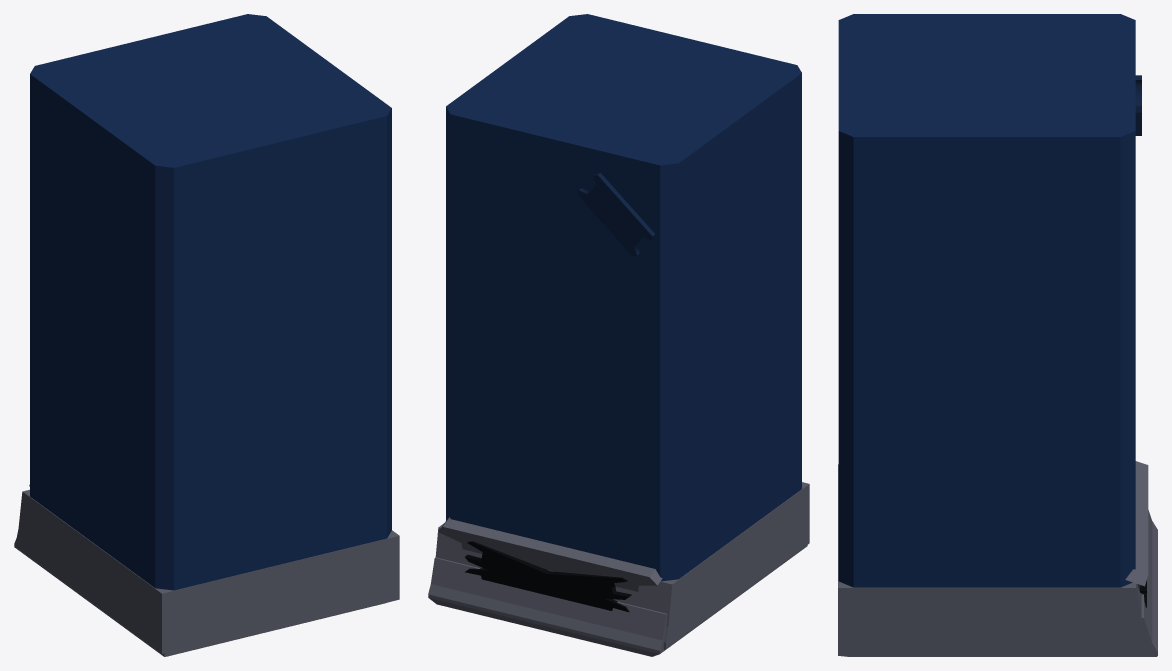
Rendered from left.obj.
3 views of the same model, side by side, from view 1: azimuth 30°, elevation 25°; view 2: azimuth 150°, elevation 25°; view 3: azimuth 270°, elevation 25° (orthographic). The views are drawn at different scales.
Visible parts, largest first — view 1: Meshpart7, Meshpart4, Meshpart3; view 2: Meshpart7, Meshpart4, Meshpart3, Meshpart5, Meshpart2, Meshpart6, Meshpart1; view 3: Meshpart7, Meshpart3, Meshpart4, Meshpart5.
Boxes of the visible parts, box(x1,y1,x2,y2) form: Meshpart7: box(30, 14, 391, 590); Meshpart4: box(16, 489, 399, 656); Meshpart3: box(14, 539, 399, 656); Meshpart7: box(446, 14, 801, 581); Meshpart4: box(435, 482, 809, 649); Meshpart3: box(428, 545, 807, 656); Meshpart5: box(438, 517, 662, 591); Meshpart2: box(465, 541, 629, 612); Meshpart6: box(577, 173, 655, 256); Meshpart1: box(465, 568, 631, 599); Meshpart7: box(838, 14, 1135, 587); Meshpart3: box(838, 510, 1157, 656); Meshpart4: box(838, 464, 1149, 651); Meshpart5: box(1125, 461, 1148, 589).
Bounding box in the file's own units: 1.05 × 2.08 × 1.15.
